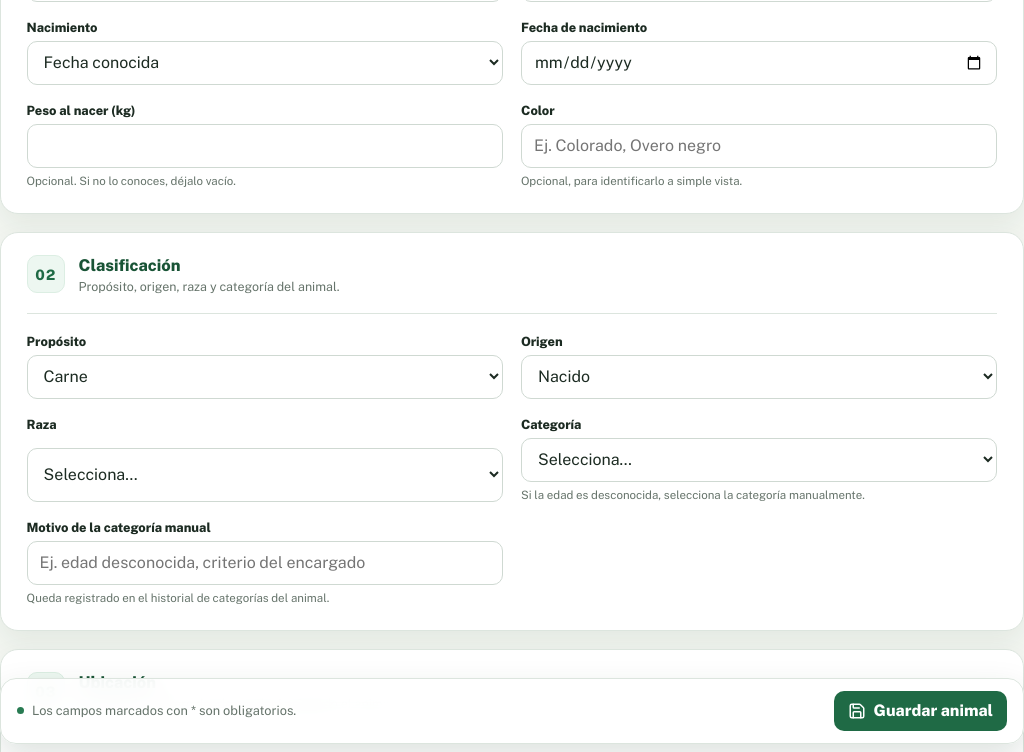
Scenario: NuevoAnimalPage › no ofrece color, peso al nacer ni condición corporal para un animal comprado (no soportado por CompraDetalleRequest)
(page scrolled)
Select "Comprado" in the dropdown labelled "Origen" at (759, 377), box [522,356,996,397]
(page scrolled)
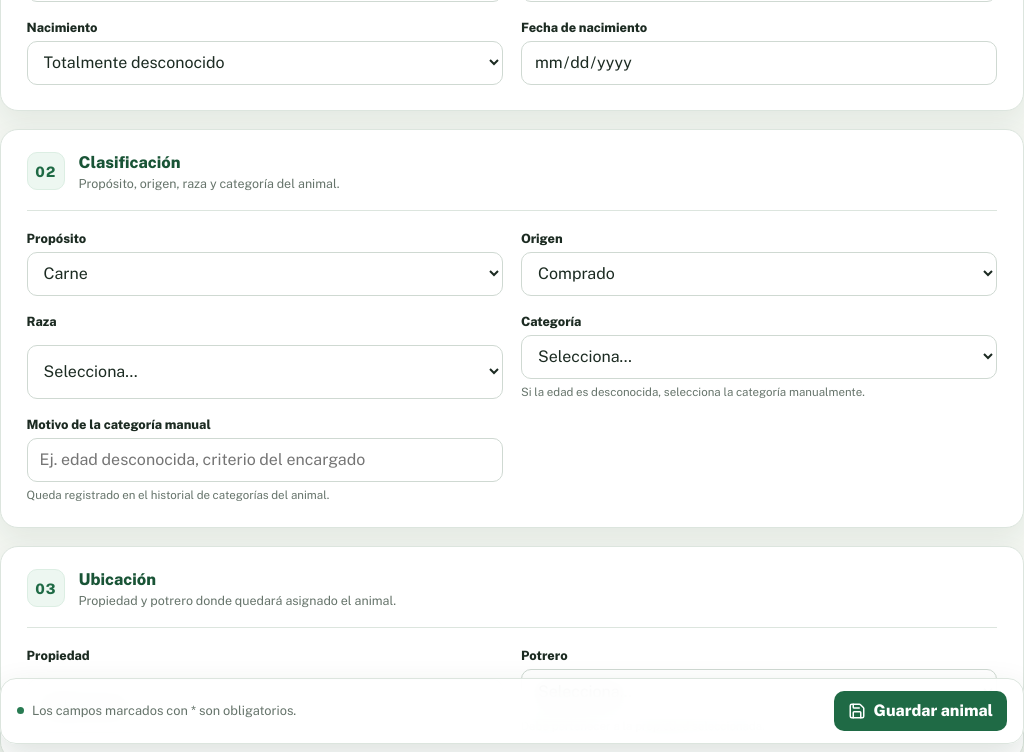
Expected: the label labelled "Color" is gone
Expected: the label labelled "Peso al nacer (kg)" is gone
